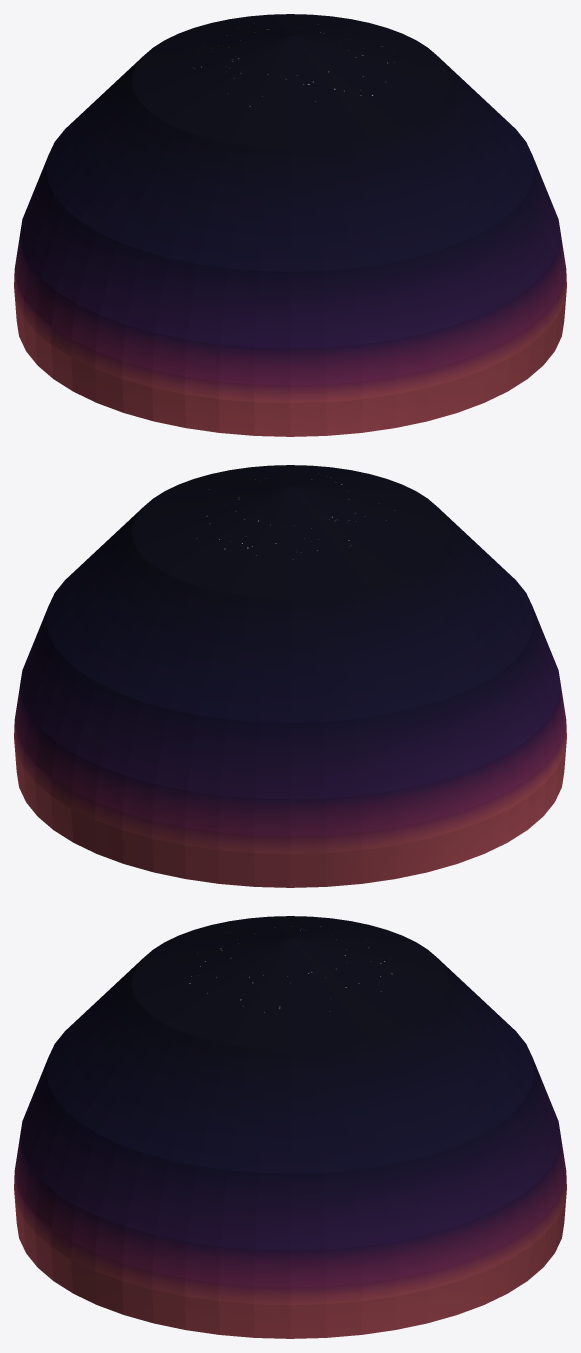
The model's file is AfterHoursNeon.fbx.
3 views of the same model, one above another, from view 1: azimuth 30°, elevation 25°; view 2: azimuth 150°, elevation 25°; view 3: azimuth 270°, elevation 25° (orthographic).
Visible parts, largest first — view 1: Sky; view 2: Sky; view 3: Sky.
Boxes of the visible parts, x1,y1,x2,y2 form: Sky: (14, 14, 566, 436); Sky: (14, 465, 566, 887); Sky: (14, 916, 566, 1338).
Bounding box in the file's own units: 3200 × 1823 × 3200.
